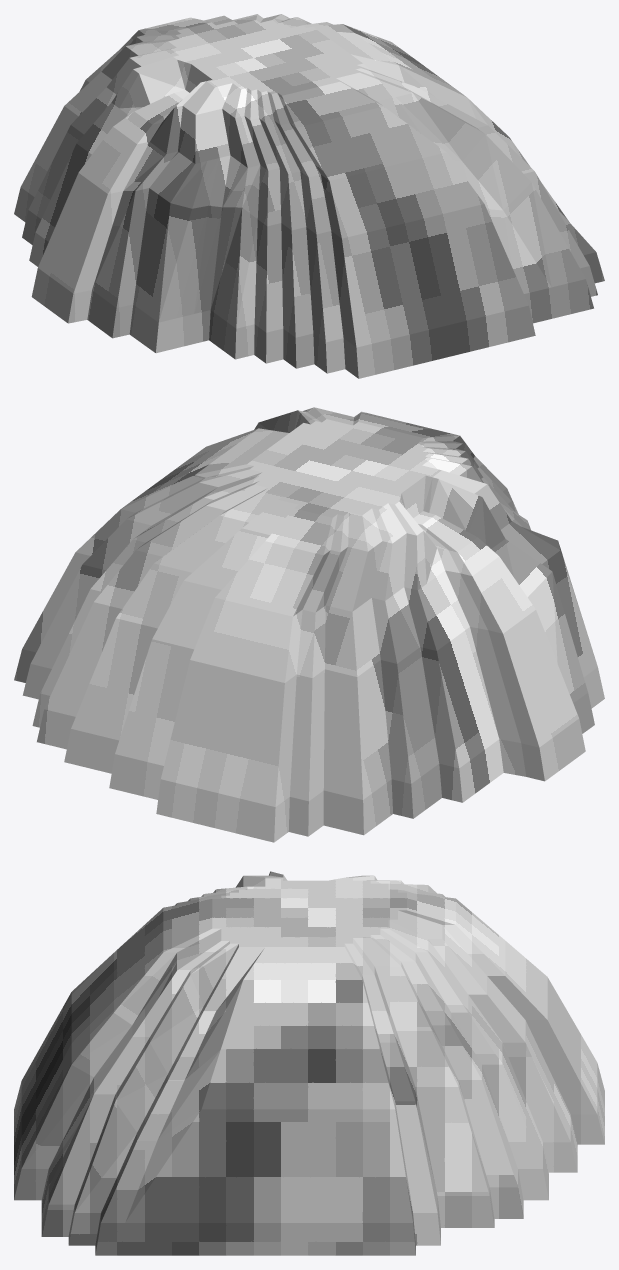
The model's file is rock_341x10.gltf.
The picture shows the model from 3 angles, top to bottom: view 1: azimuth 30°, elevation 25°; view 2: azimuth 150°, elevation 25°; view 3: azimuth 270°, elevation 25°; orthographic projection. The views are drawn at different scales.
Visible parts, largest first — view 1: Rock_341x10; view 2: Rock_341x10; view 3: Rock_341x10.
Part boxes in pixels (left/top/right/bottom): Rock_341x10: left=14, top=14, right=604, bottom=378; Rock_341x10: left=14, top=407, right=604, bottom=842; Rock_341x10: left=14, top=871, right=604, bottom=1255.
Bounding box in the file's own units: 1.59 × 0.7135 × 1.74.
Materials: 1 (1 with a texture image).
